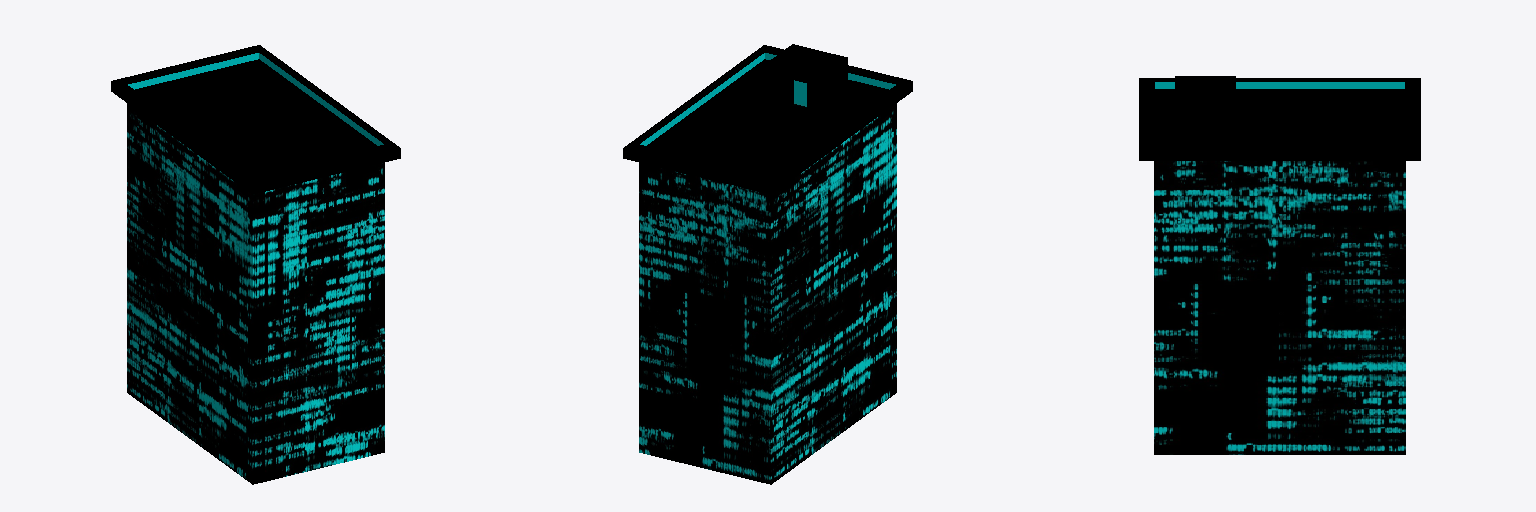
3 renders of one model, left to right at view 1: azimuth 30°, elevation 25°; view 2: azimuth 150°, elevation 25°; view 3: azimuth 270°, elevation 25°, orthographic.
Parts seen in each view (by area): view 1: Cube.012_Cube.003; view 2: Cube.012_Cube.003; view 3: Cube.012_Cube.003.
Boxes of the visible parts, <box> form: Cube.012_Cube.003: <box>111,45,400,484</box>; Cube.012_Cube.003: <box>623,44,912,484</box>; Cube.012_Cube.003: <box>1139,76,1420,454</box>.
Bounding box in the file's own units: 0.7573 × 1.63 × 1.25.
Materials: 3 (1 with a texture image).